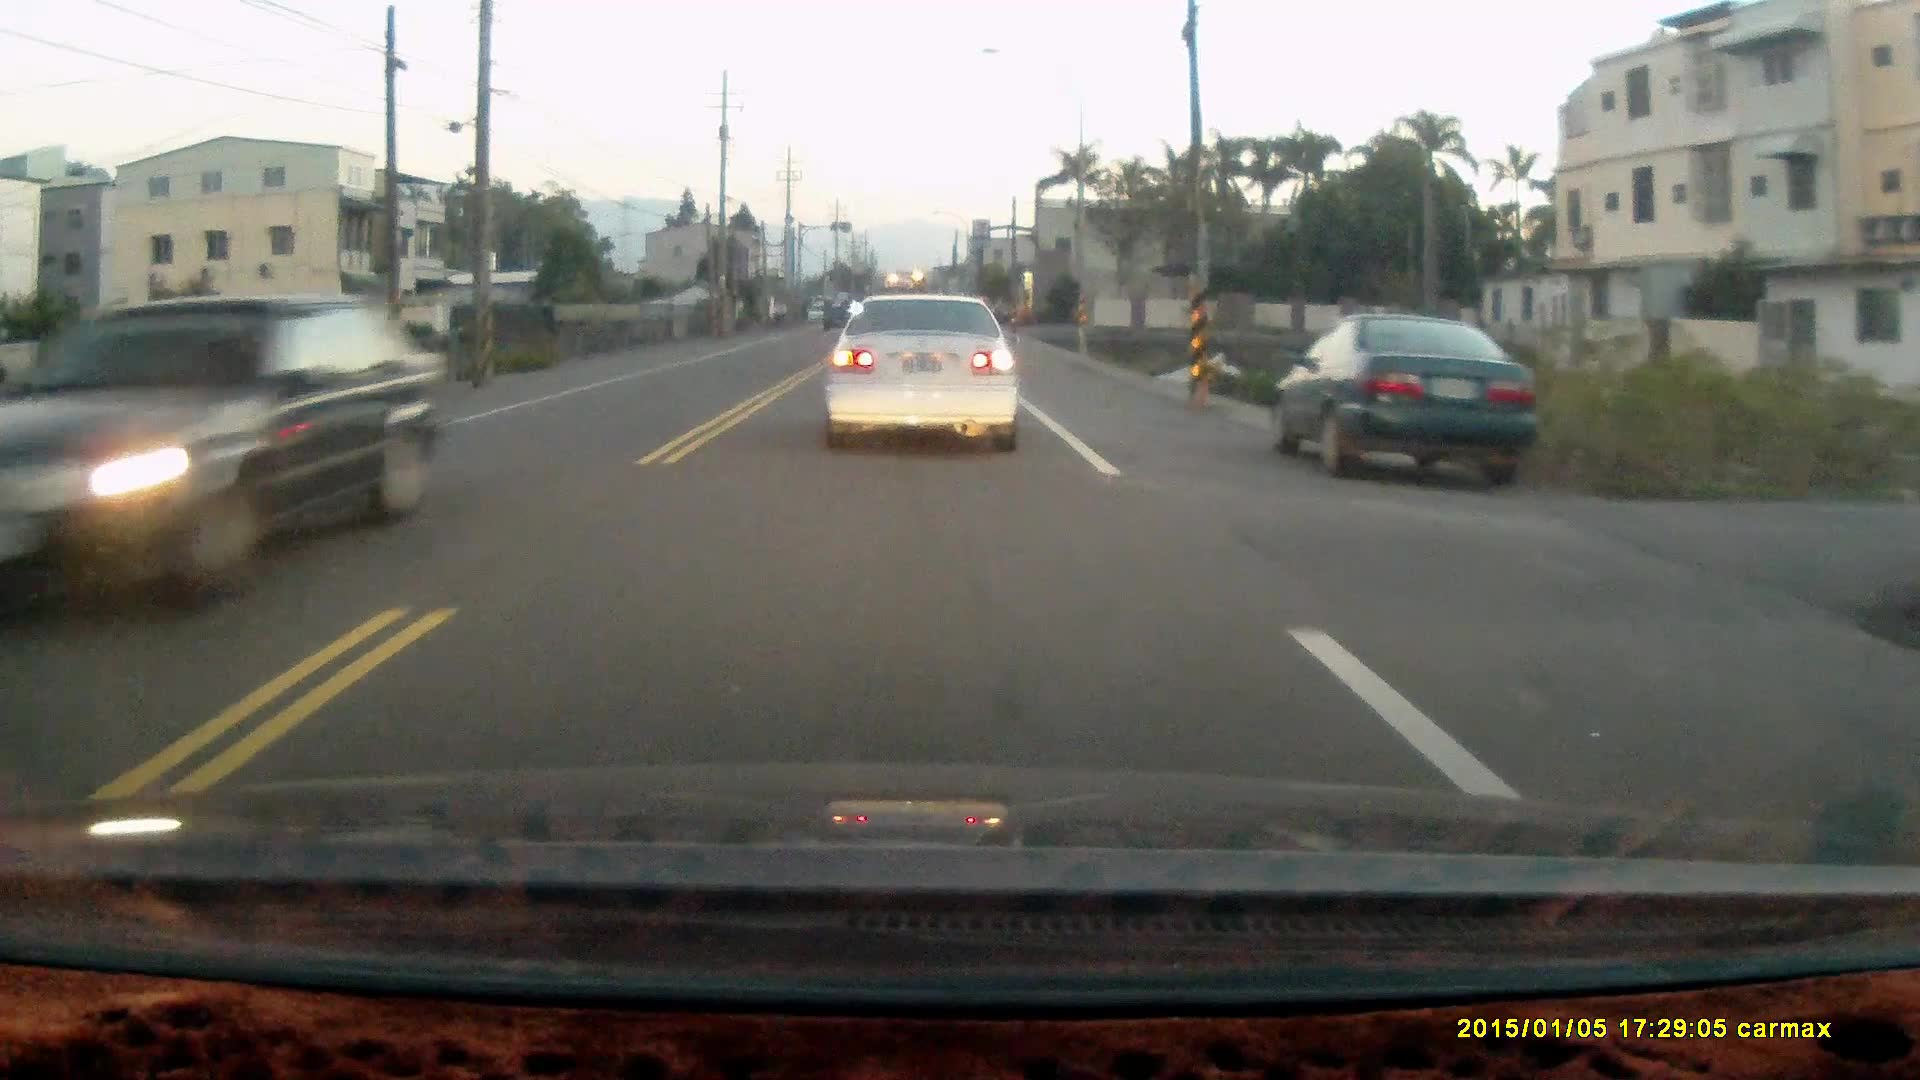vehicle: (1, 291, 447, 617), (1266, 313, 1534, 481), (823, 285, 1019, 443)
